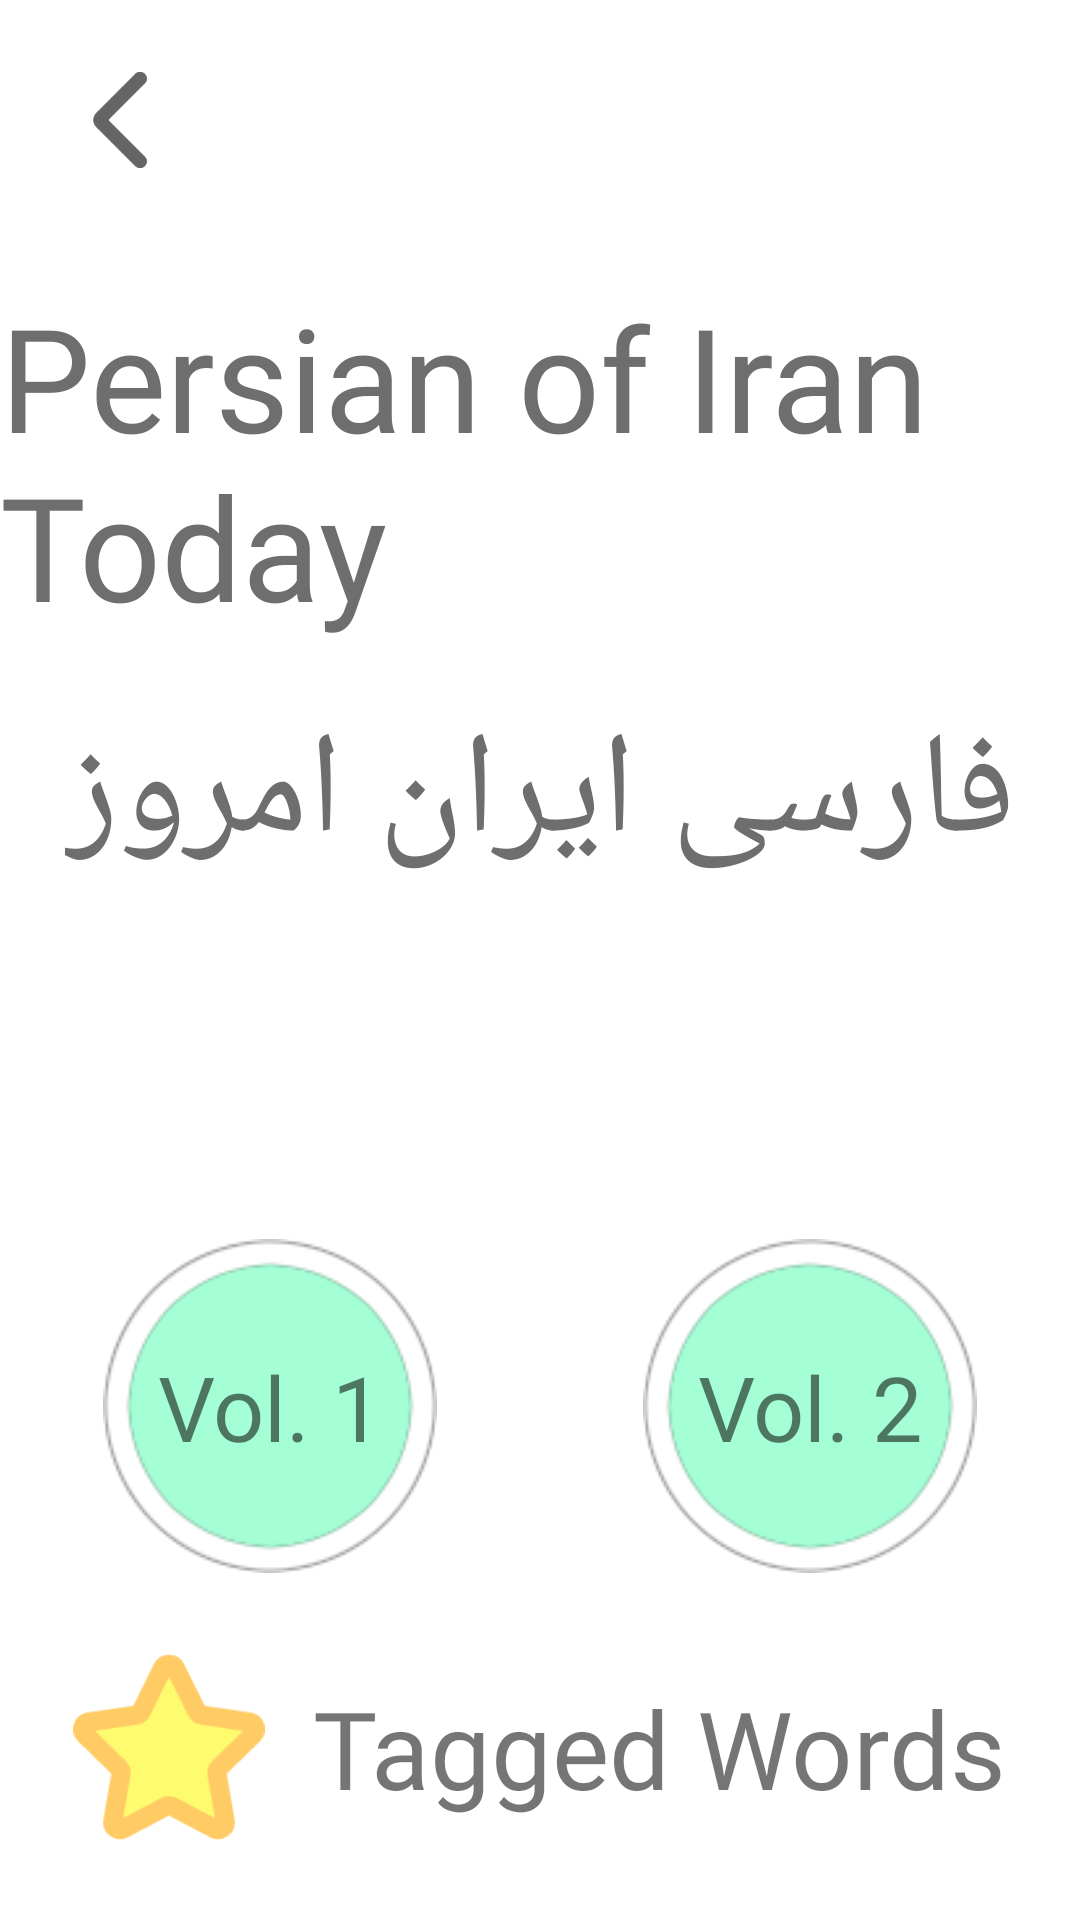

Where to tap for icons on this 1080px x 1920px app screen, as [x,y]:
back: [120,120]
star: [169,1747]
